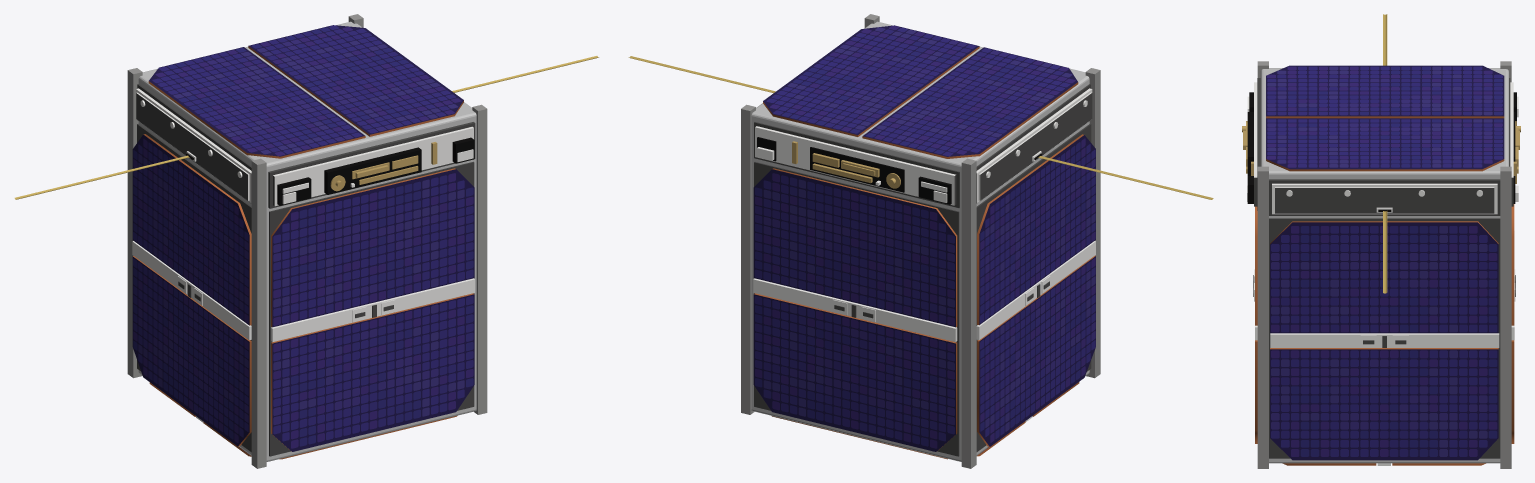
File: 1RU-GenericCubesat.obj
The picture shows the model from 3 angles, left to right: view 1: azimuth 30°, elevation 25°; view 2: azimuth 150°, elevation 25°; view 3: azimuth 270°, elevation 25°; orthographic projection. The views are drawn at different scales.
Visible parts, largest first — view 1: Layer_0; view 2: Layer_0; view 3: Layer_0.
Boxes of the visible parts, bbox=[...] form: Layer_0: bbox=[14, 14, 598, 468]; Layer_0: bbox=[628, 14, 1213, 468]; Layer_0: bbox=[1242, 14, 1520, 468].
Size of the model in its own units: 5.19 by 2.6 by 2.2.
